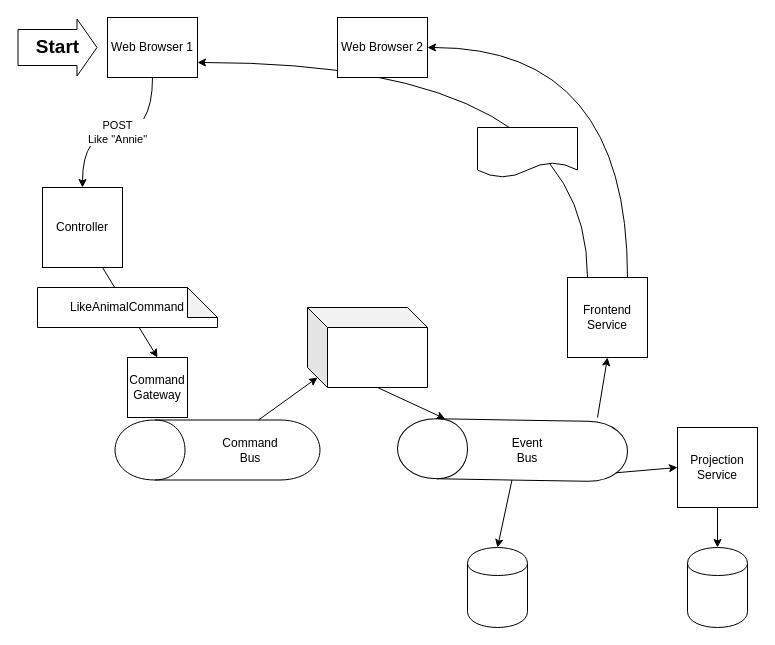
This 775x645 diagram has some shape labels left out. Here are the shapes that lost their labels. From the top down, the centre of each, then its label:
point 527,152: AnimalLikedEvent
point 367,347: Animal Aggregate "Annie"
point 497,587: Event Store
point 717,587: Query Database
